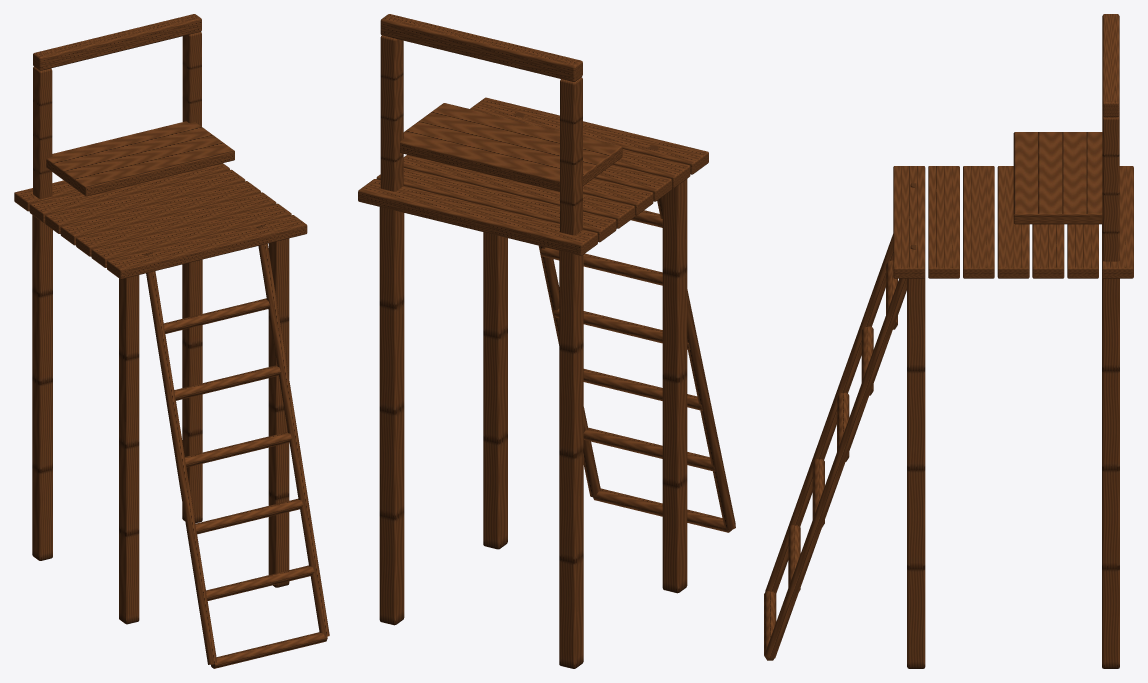
The model's file is prehistoric-expedition-sites-raised-lookout-seat-55f0fdf2__26120.glb.
3 renders of one model, left to right at view 1: azimuth 30°, elevation 25°; view 2: azimuth 150°, elevation 25°; view 3: azimuth 270°, elevation 25°, orthographic. The views are drawn at different scales.
Visible parts, largest first — view 1: raised-lookout-seat; view 2: raised-lookout-seat; view 3: raised-lookout-seat.
Boxes of the visible parts, x1,y1,x2,y2 form: raised-lookout-seat: (14, 14, 329, 668); raised-lookout-seat: (358, 14, 735, 668); raised-lookout-seat: (764, 14, 1133, 668).
Size of the model in its own units: 1 by 2.59 by 1.52.
1 material, 1 textured.
